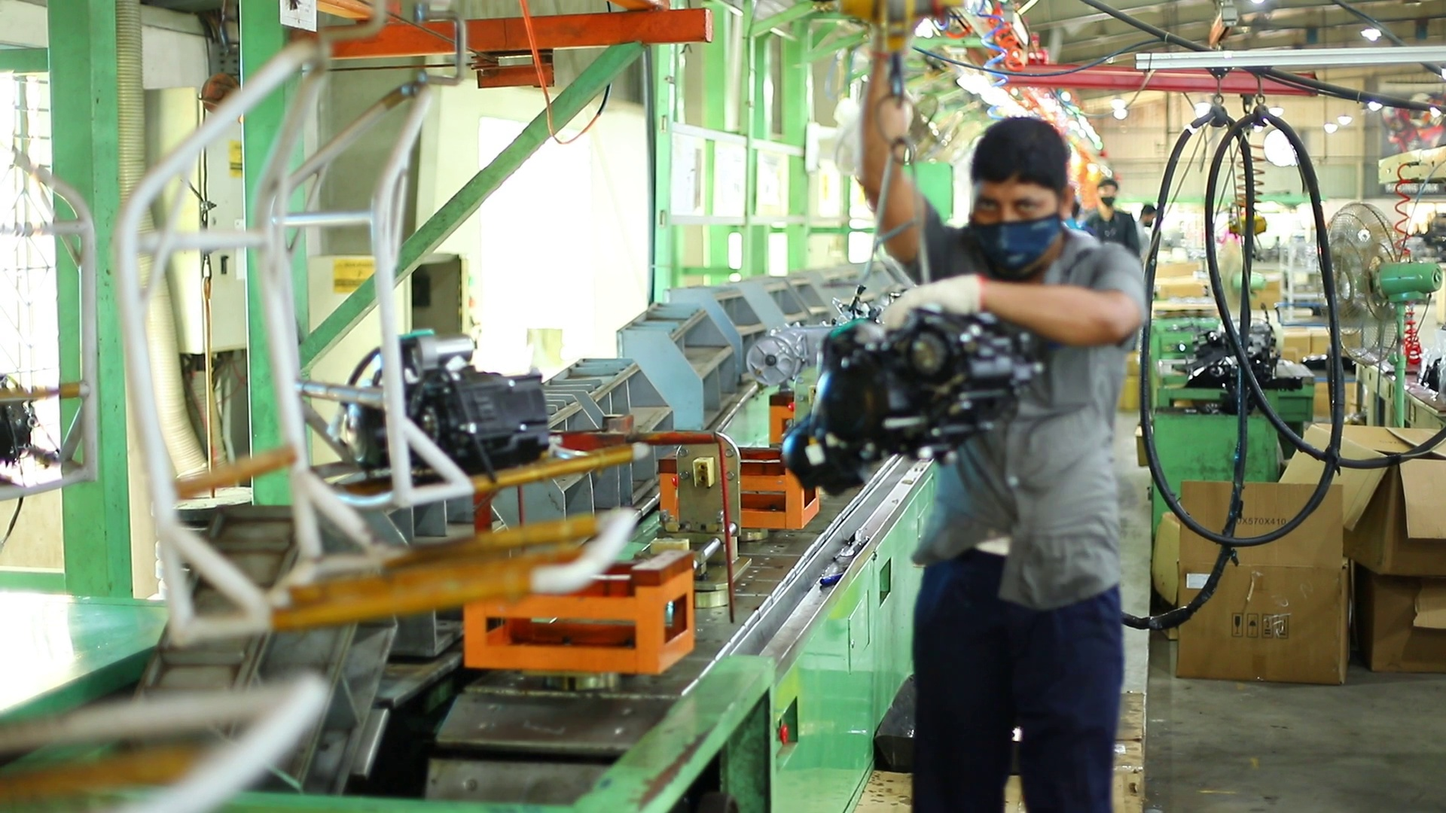mask: (965, 216, 1066, 279), (1101, 196, 1117, 210)
person: (862, 84, 1152, 813), (1078, 177, 1146, 264), (1138, 202, 1160, 261)
